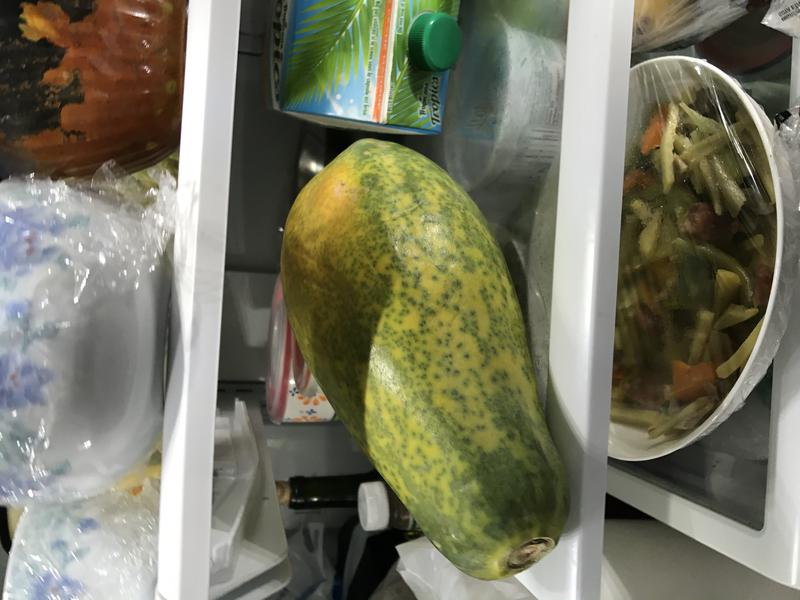papaya: (281, 124, 576, 580)
